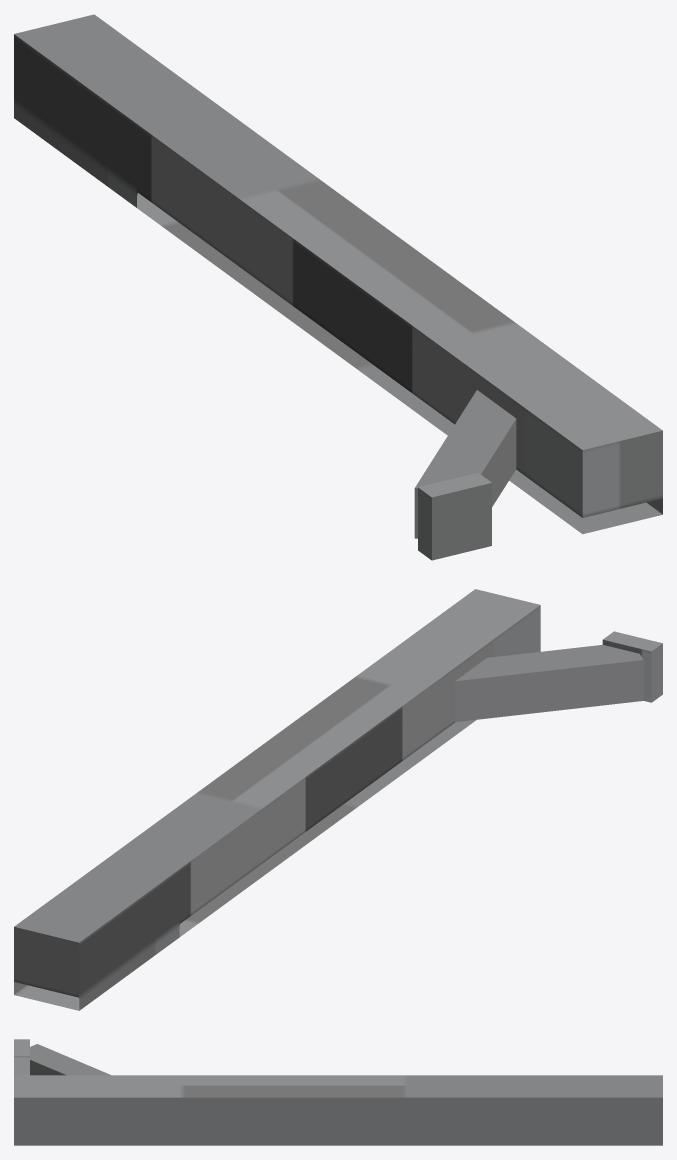
3 views of the same model, one above another, from view 1: azimuth 30°, elevation 25°; view 2: azimuth 150°, elevation 25°; view 3: azimuth 270°, elevation 25° (orthographic). The views are drawn at different scales.
Size of the model in its own units: 0.575 by 0.2 by 2.45.
